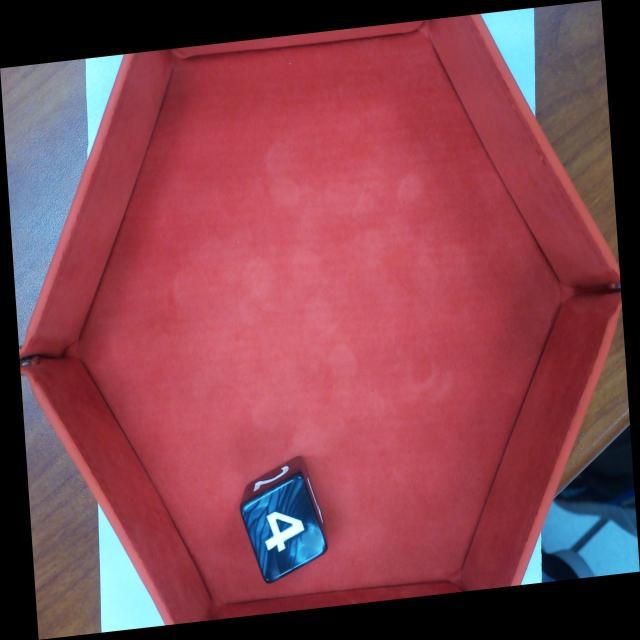dice: (242, 473, 327, 582)
